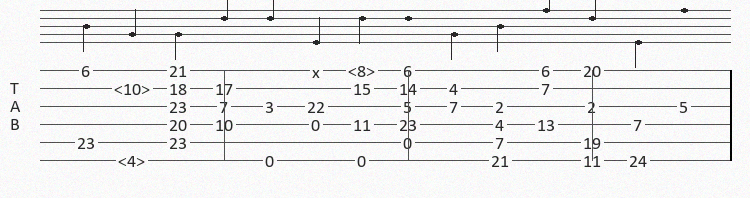0: (265, 153, 278, 168), (311, 117, 324, 132), (357, 153, 370, 168), (403, 135, 416, 150)
10: (215, 117, 237, 132)
11: (353, 117, 375, 132), (583, 153, 605, 168)
13: (537, 117, 559, 132)
14: (399, 81, 421, 96)
15: (353, 81, 375, 96)
17: (215, 81, 237, 96)
18: (169, 81, 191, 96)
19: (583, 135, 605, 150)
2: (495, 99, 508, 114), (587, 99, 600, 114)
20: (169, 117, 191, 132), (583, 63, 605, 78)
21: (169, 63, 191, 78), (491, 153, 513, 168)
22: (307, 99, 329, 114)
23: (77, 135, 99, 150), (169, 135, 191, 150), (169, 99, 191, 114), (399, 117, 421, 132)
24: (629, 153, 651, 168)
3: (265, 99, 278, 114)
4: (449, 81, 462, 96), (495, 117, 508, 132)
5: (403, 99, 416, 114), (679, 99, 692, 114)
6: (81, 63, 94, 78), (403, 63, 416, 78), (541, 63, 554, 78)
7: (219, 99, 232, 114), (449, 99, 462, 114), (495, 135, 508, 150), (541, 81, 554, 96), (633, 117, 646, 132)
harmonic: (114, 81, 154, 96), (118, 153, 149, 168), (348, 63, 379, 78)
x: (312, 64, 324, 76)
